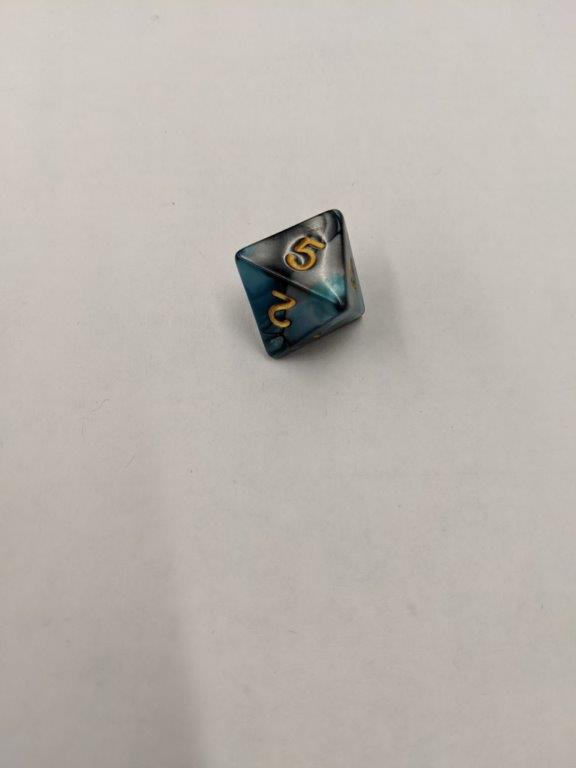d8-5: (235, 205, 368, 364)
